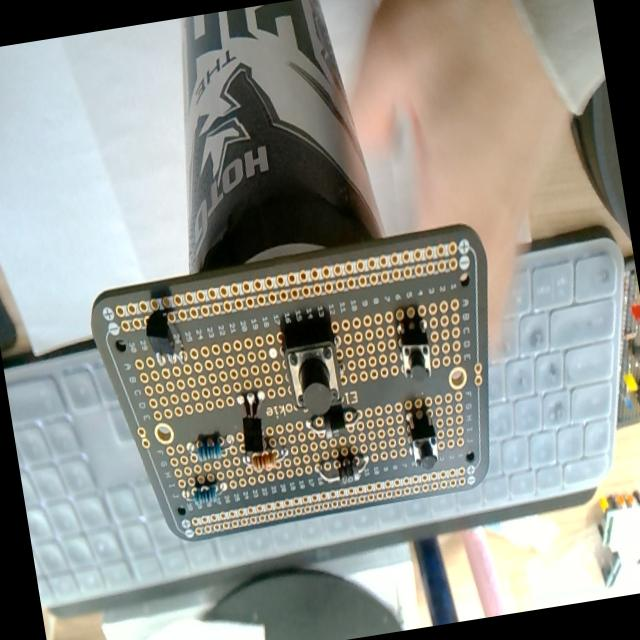diode: (305, 404, 364, 445), (317, 450, 371, 488)
resistor: (190, 478, 222, 510), (194, 435, 224, 464), (252, 451, 278, 474)
switch: (282, 324, 348, 420), (394, 312, 436, 386), (404, 404, 442, 471)
transistor: (138, 311, 188, 377), (230, 384, 270, 458)
